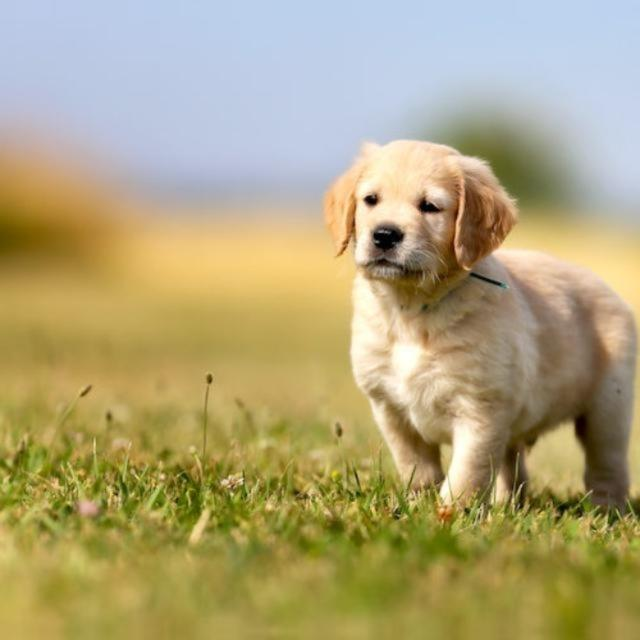dog: (301, 127, 635, 528)
